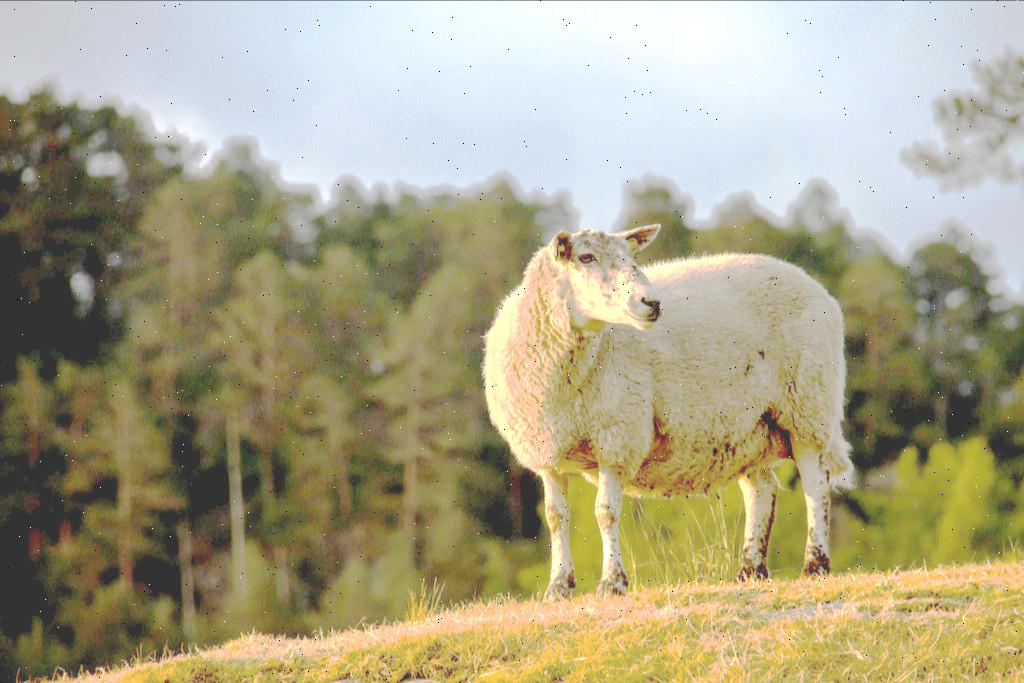Sheep: (480, 218, 876, 603)
